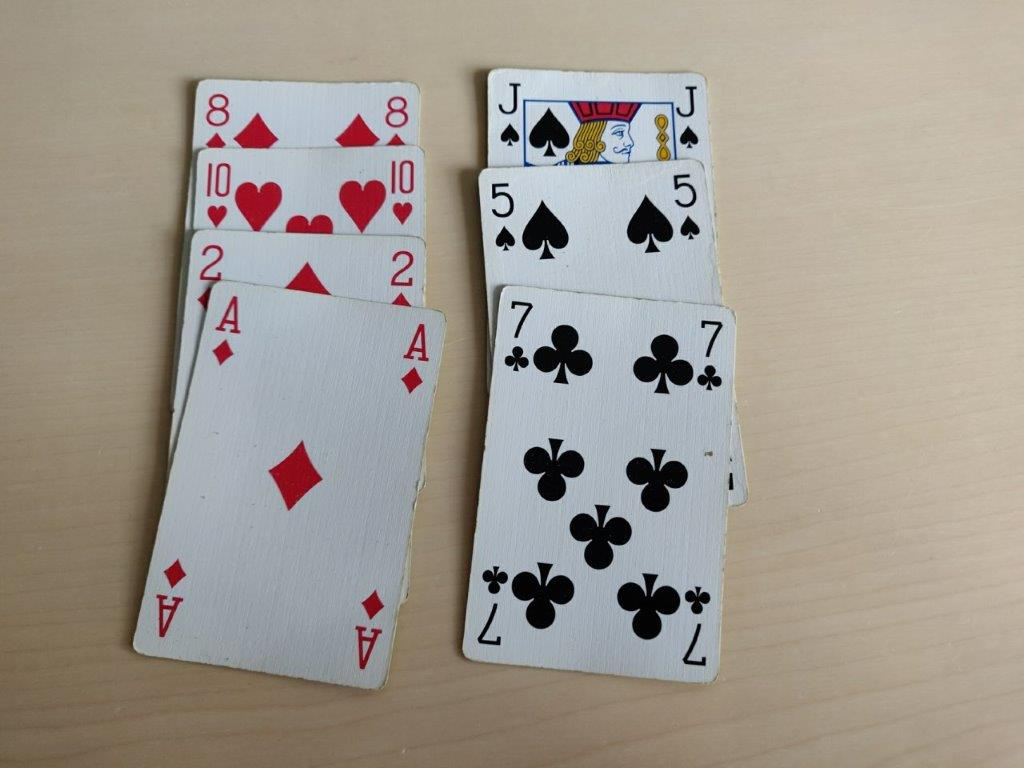10H: (200, 153, 234, 233), (385, 153, 418, 229)
5S: (664, 167, 706, 244), (484, 177, 520, 253)
7C: (694, 314, 728, 396), (499, 296, 534, 375)
AD: (394, 317, 431, 402), (208, 289, 244, 371)
JS: (669, 79, 704, 152), (494, 79, 524, 149)
